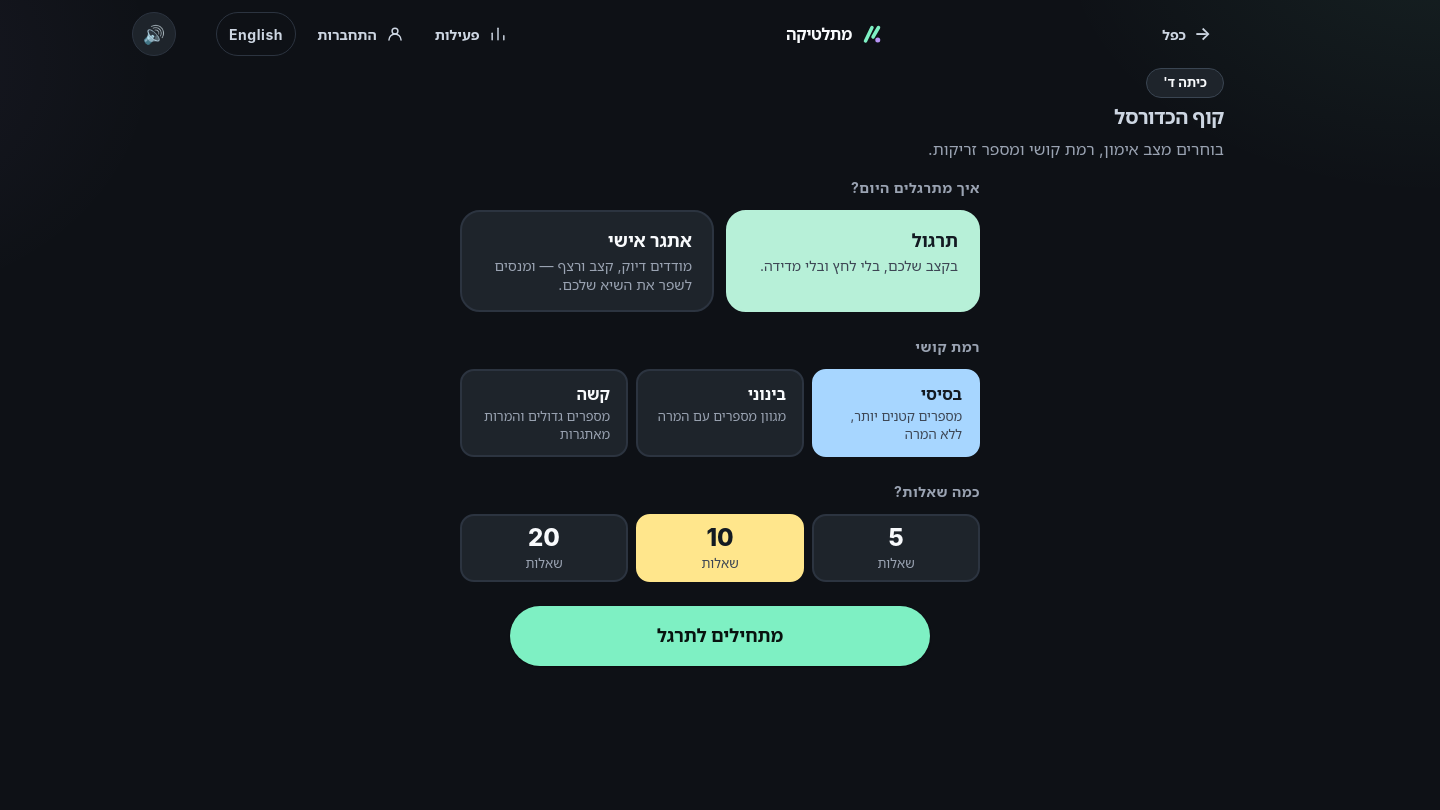
Test: Basketball Monkey training activity › renders Hebrew RTL while preserving LTR equation order
Check: the heading "קוף הכדורסל" is shown, box 1114,106 -> 1224,128
Click the button with test id "tr-count-5" at (896, 548), box 812,514 -> 980,582
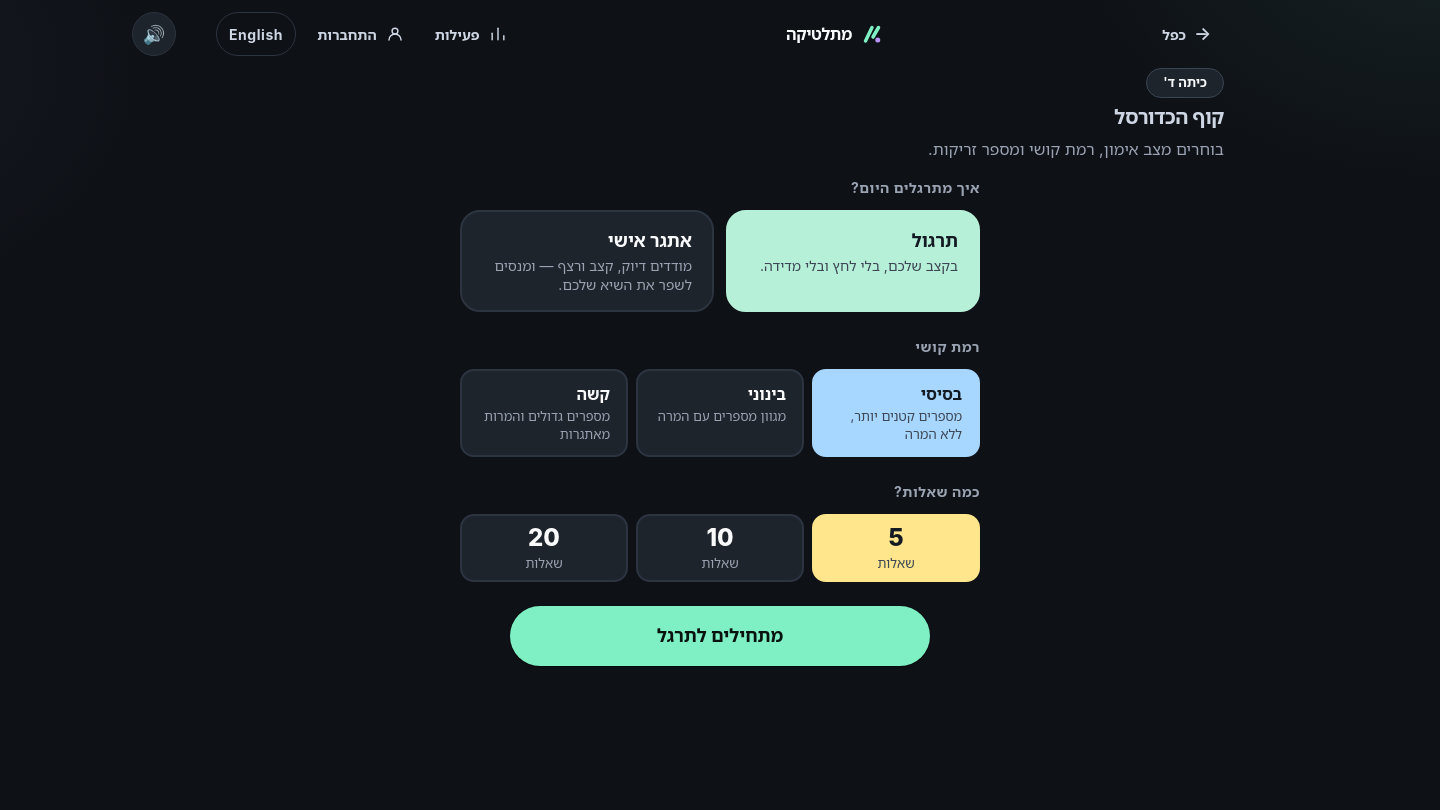
Click the button with test id "tr-start" at (720, 636), box 510,606 -> 930,666
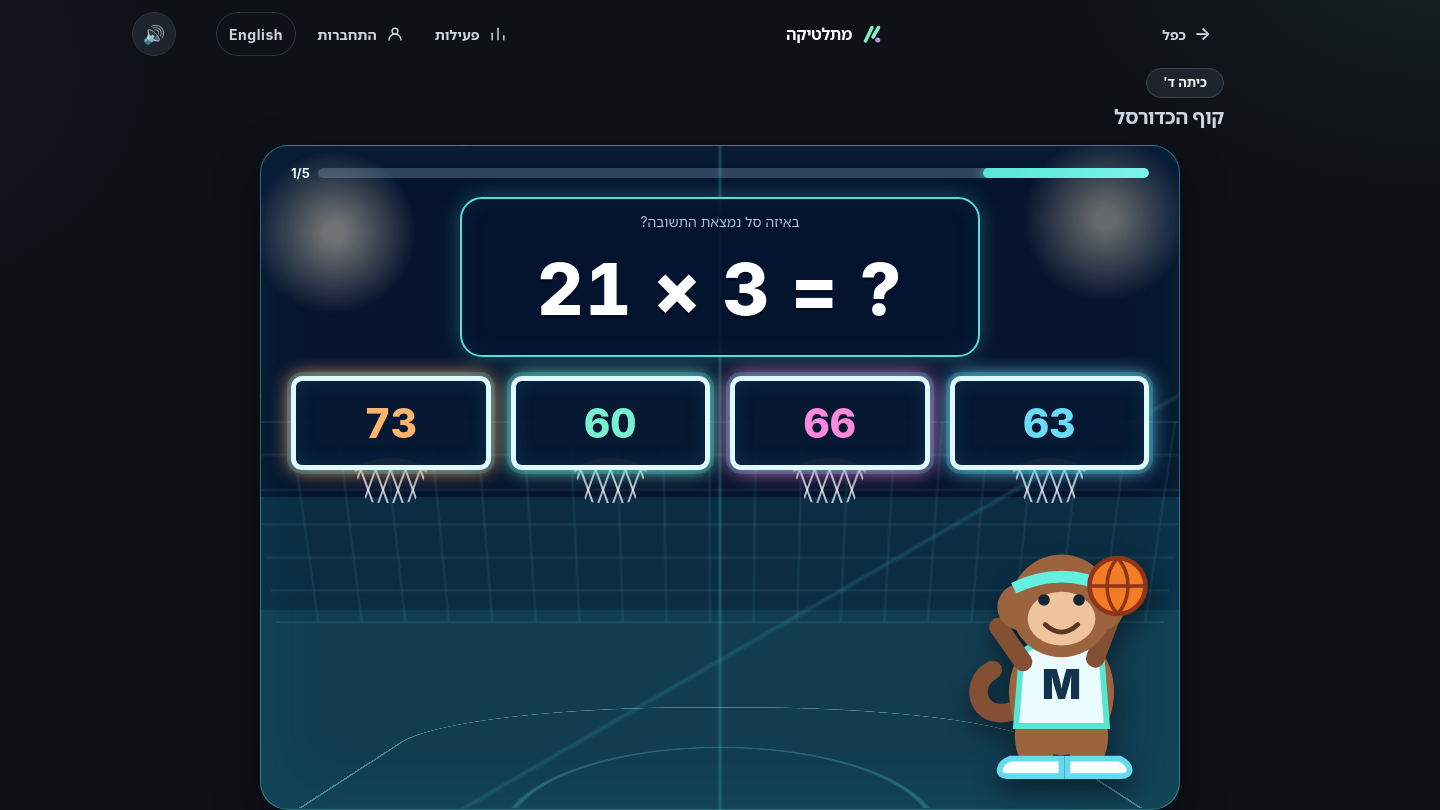
Check: the text with class "tr-fact" reads "21 × 3 = ?", box 537,245 -> 903,332
